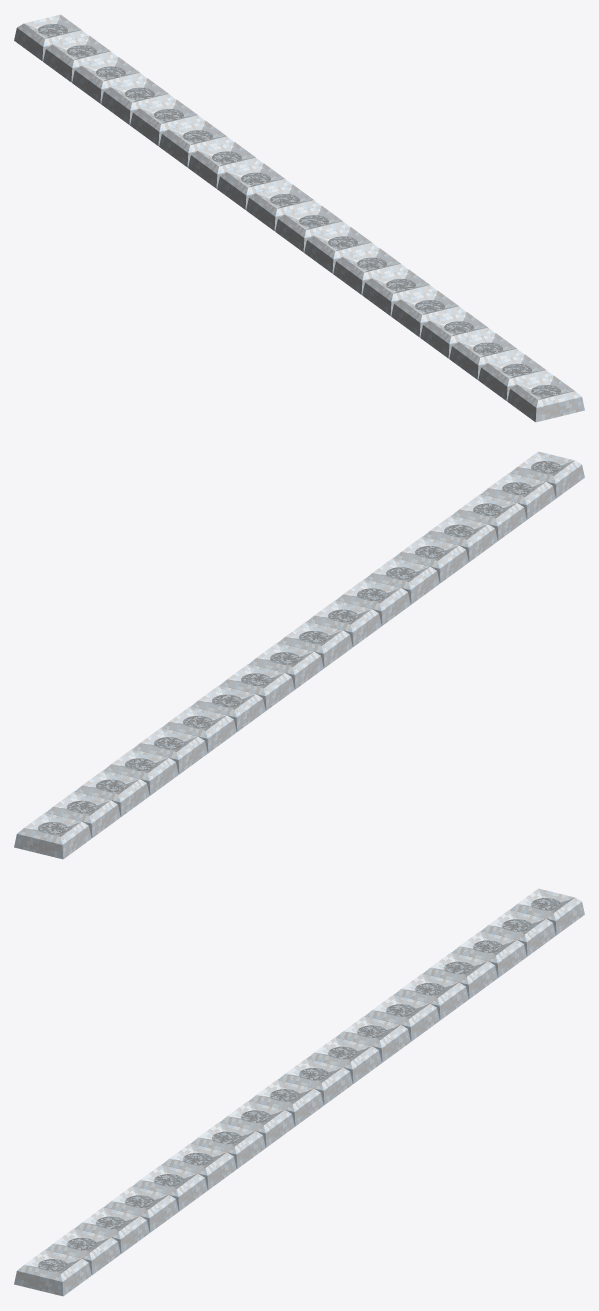
File: Fence base.fbx
3 renders of one model, top to bottom at view 1: azimuth 30°, elevation 25°; view 2: azimuth 150°, elevation 25°; view 3: azimuth 330°, elevation 25°, orthographic.
Parts seen in each view (by area): view 1: Fence Base; view 2: Fence Base; view 3: Fence Base.
Boxes of the visible parts, x1,y1,x2,y2 form: Fence Base: (14,14,584,422); Fence Base: (14,451,584,859); Fence Base: (14,888,584,1296).
Size of the model in its own units: 58.07 by 20.55 by 1064.
